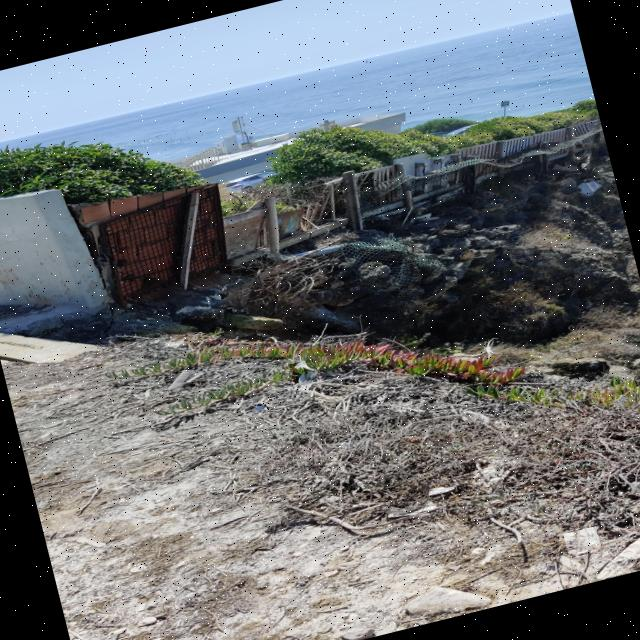Aluminium blister pack: (597, 539, 640, 577)
Disposable plastic cup: (167, 370, 206, 390)
Metal bottle cap: (255, 405, 265, 410)
Unlabeled litter: (565, 528, 600, 555), (387, 500, 437, 517), (294, 360, 318, 385)
